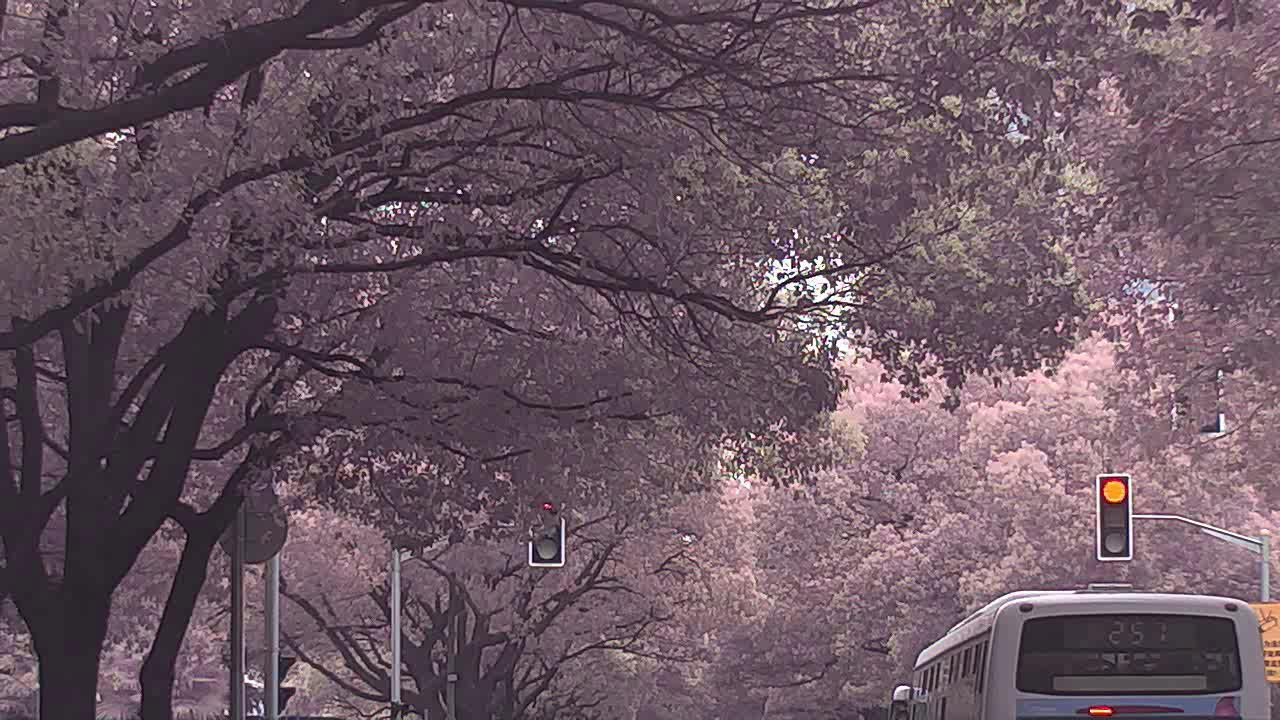traffic_light: (1099, 475, 1134, 556)
